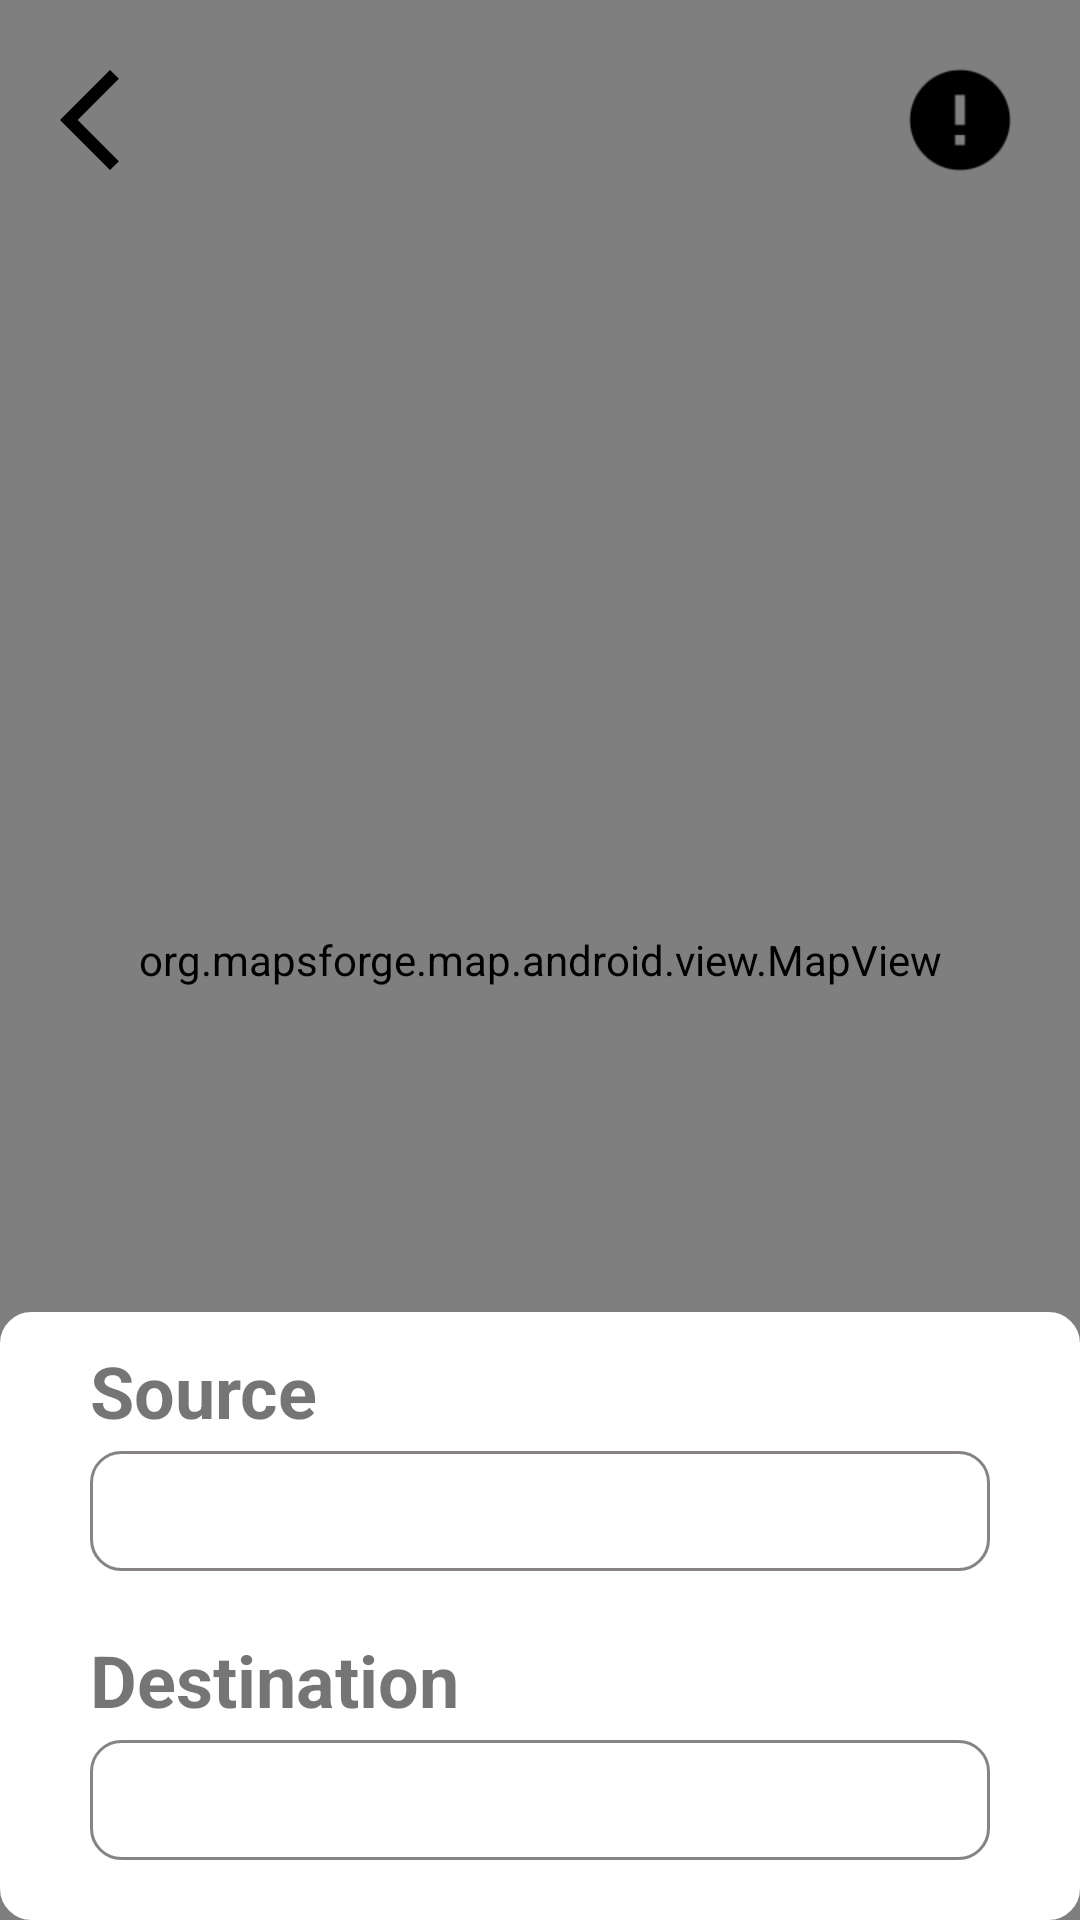

Screen size 1080px x 1920px. Icon name, then its center in pixels as [x,y]:
back: [89,120]
